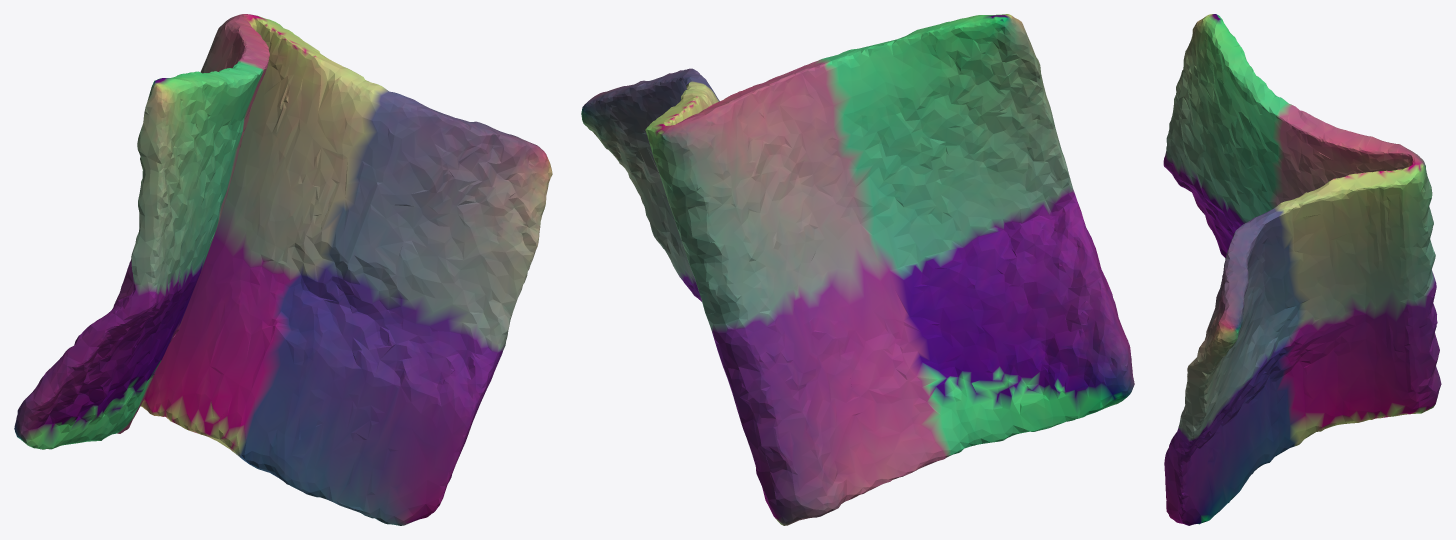
The model's file is paper-20.off.obj.
3 renders of one model, left to right at view 1: azimuth 30°, elevation 25°; view 2: azimuth 150°, elevation 25°; view 3: azimuth 270°, elevation 25°, orthographic. The views are drawn at different scales.
Bounding box in the file's own units: 1.62 × 1.43 × 0.8708.
